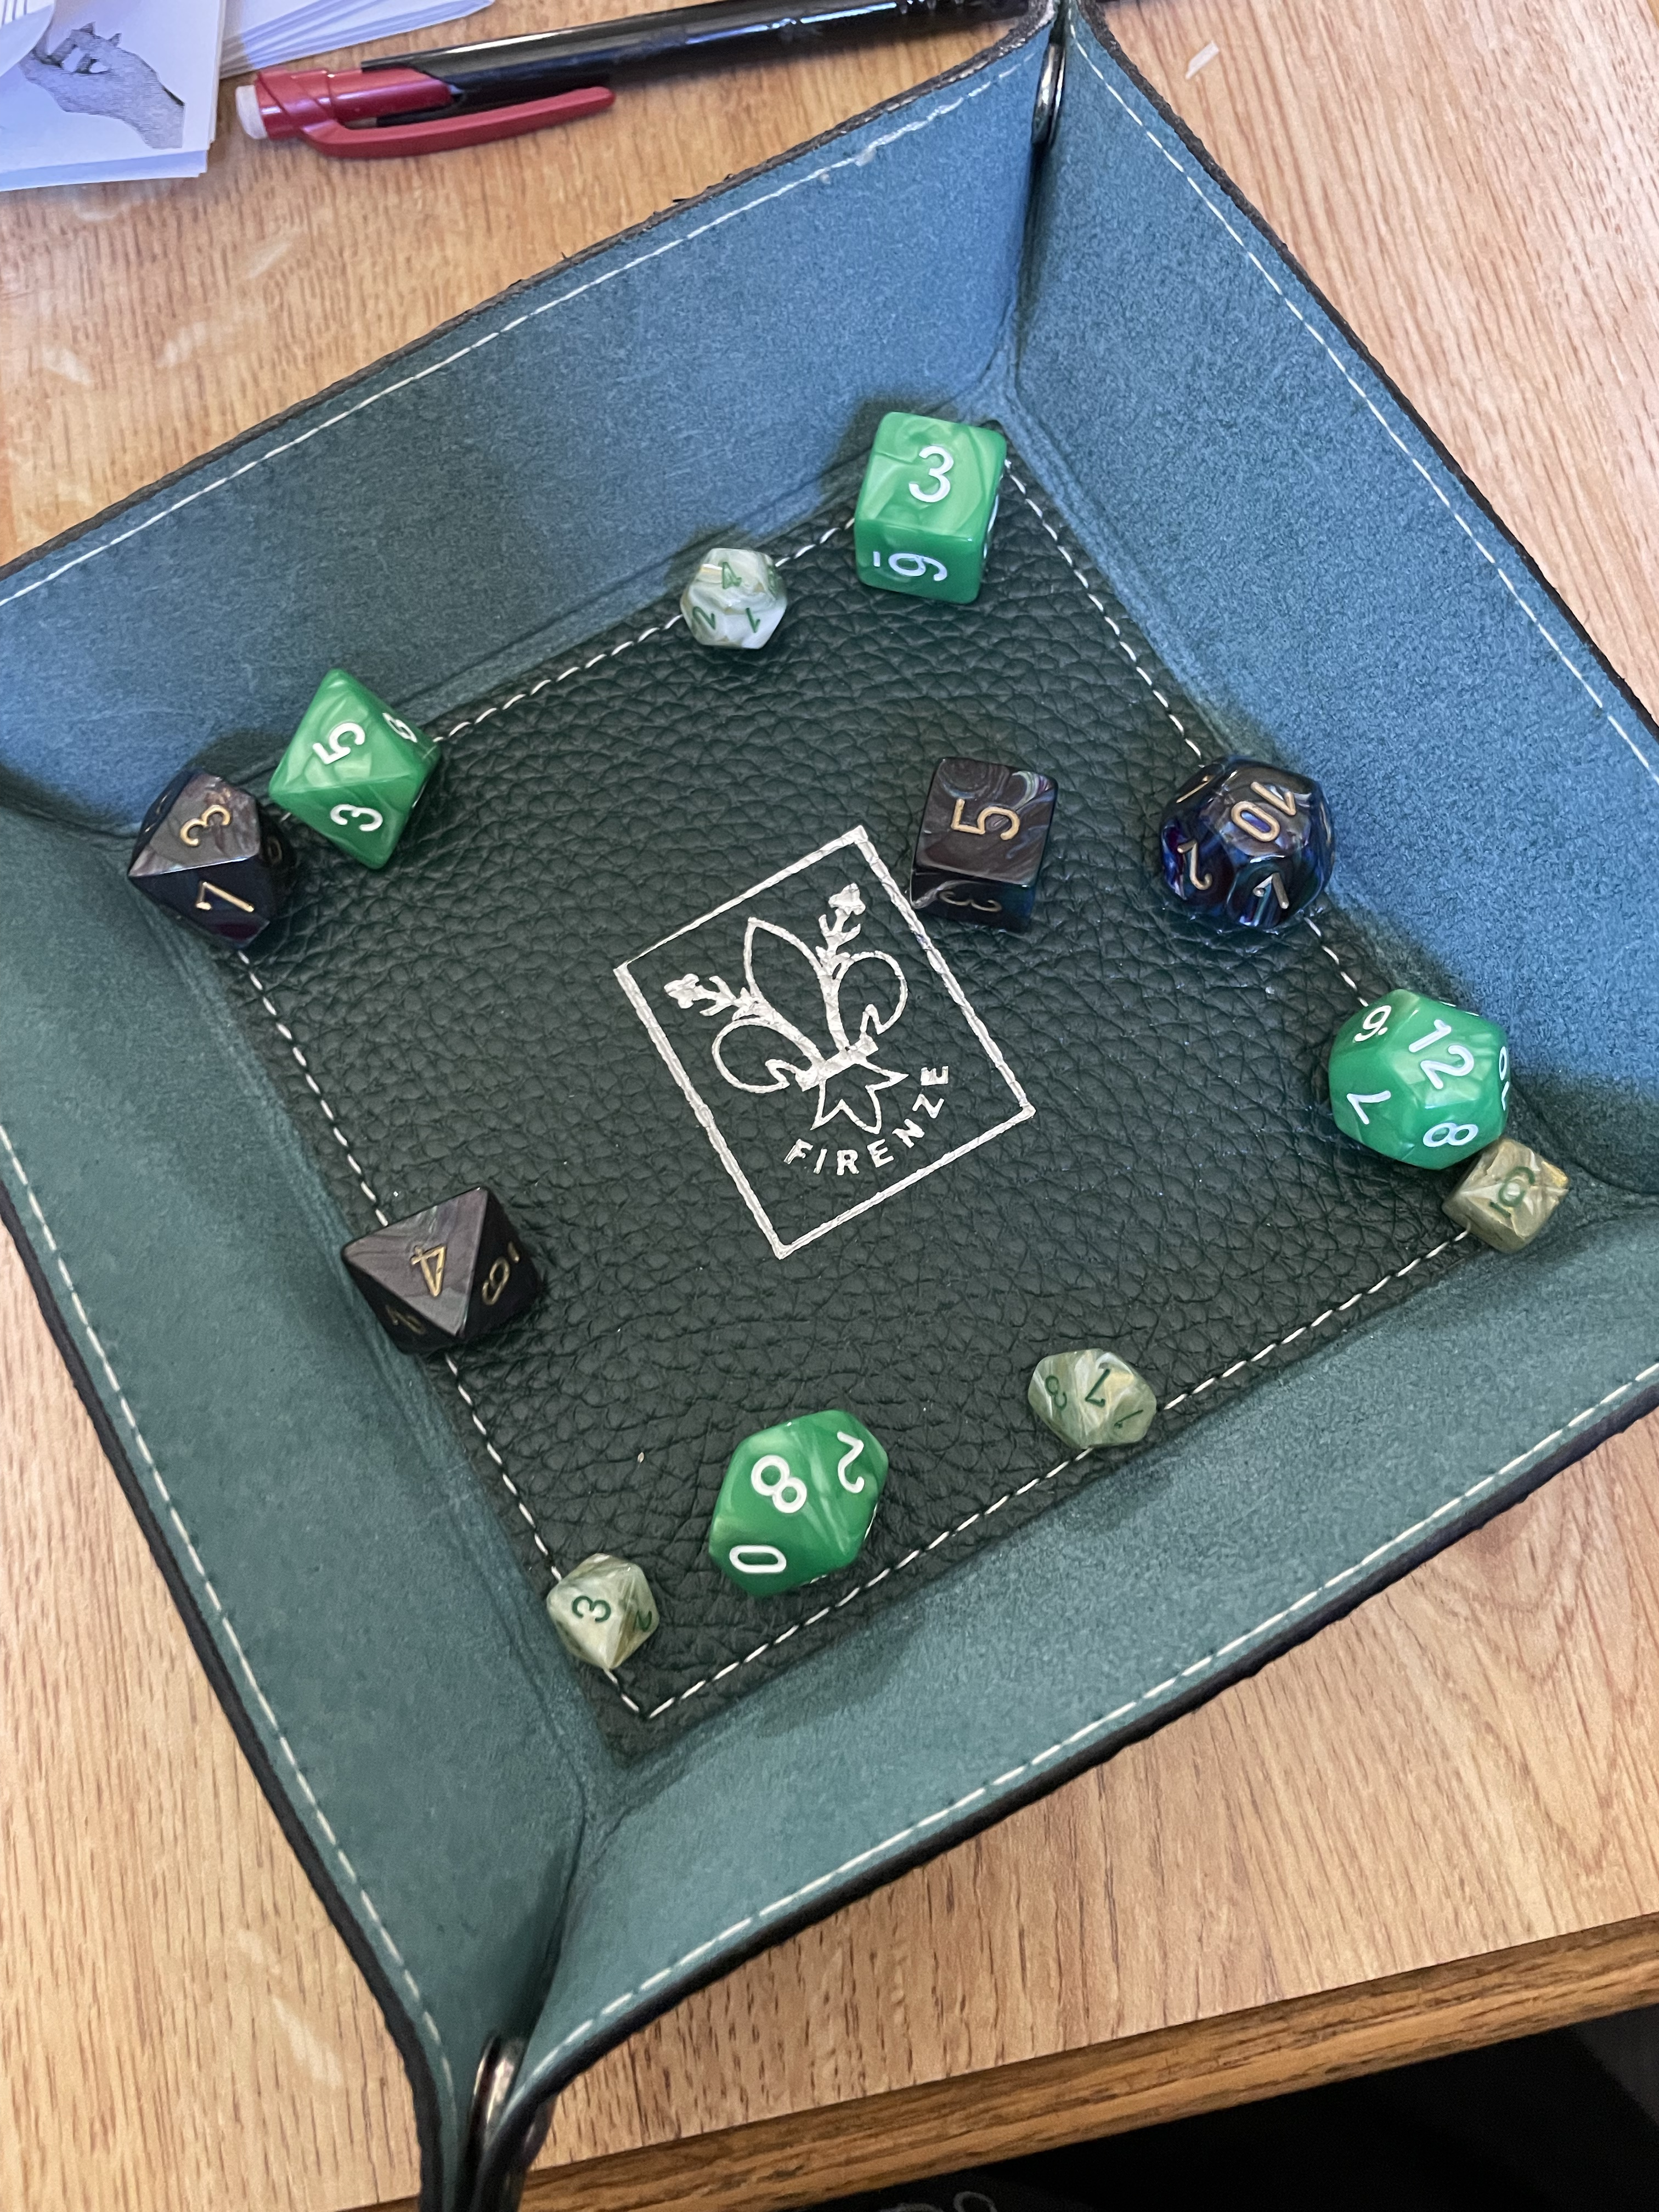eight: (660, 1371, 913, 1618)
five: (237, 643, 472, 881), (864, 732, 1091, 972)
four: (293, 1144, 580, 1392), (666, 528, 802, 688)
seven: (988, 1327, 1204, 1484)
six: (1431, 1115, 1595, 1275)
ten: (1124, 719, 1359, 953)
three: (91, 733, 308, 993), (833, 371, 1046, 624), (519, 1522, 687, 1689)
twelve: (1302, 967, 1534, 1174)
